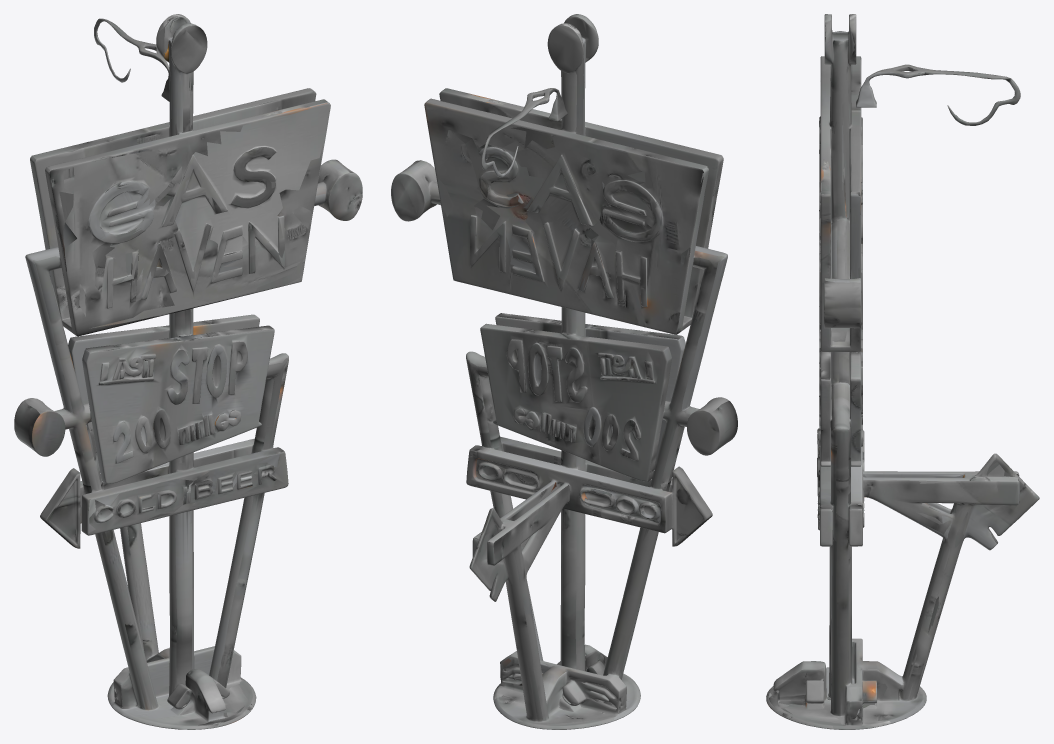
File: enseigne.glb
3 views of the same model, side by side, from view 1: azimuth 30°, elevation 25°; view 2: azimuth 150°, elevation 25°; view 3: azimuth 270°, elevation 25° (orthographic).
Parts seen in each view (by area): view 1: node_0; view 2: node_0; view 3: node_0.
Part boxes in pixels (<box>): node_0: <box>14,14,362,729</box>; node_0: <box>391,14,737,729</box>; node_0: <box>766,14,1039,729</box>.
Bounding box in the file's own units: 0.575 × 1.13 × 0.4107.
1 material, 1 textured.
